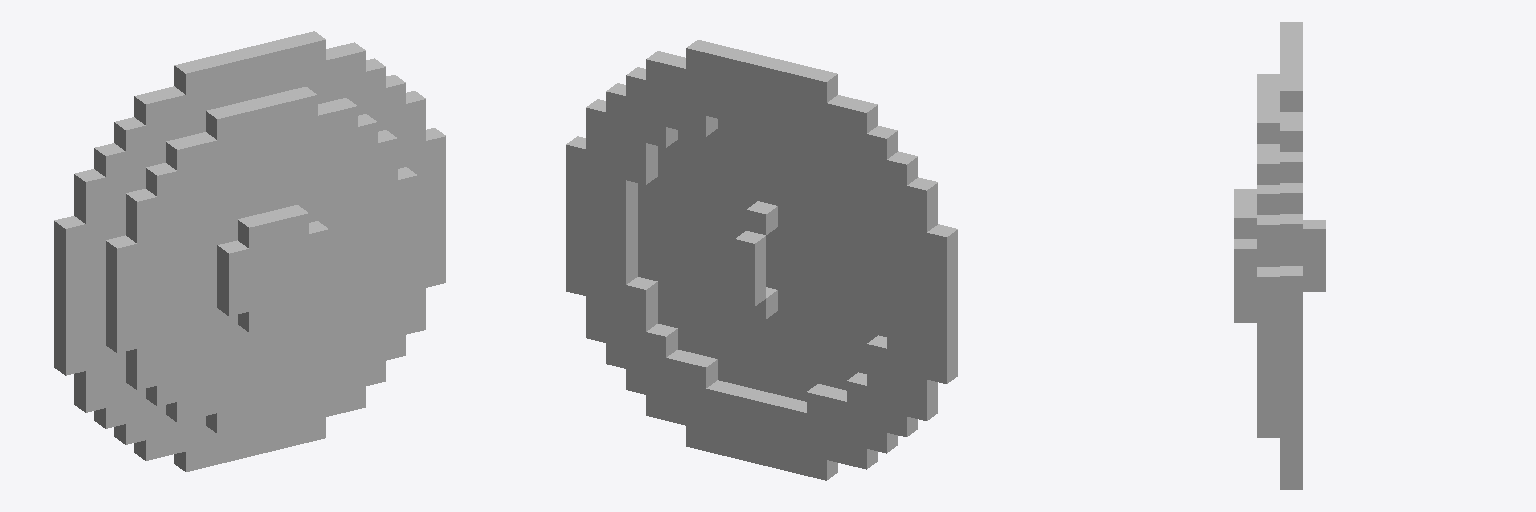
The model's file is Wooden Shield.obj.
3 views of the same model, side by side, from view 1: azimuth 30°, elevation 25°; view 2: azimuth 150°, elevation 25°; view 3: azimuth 270°, elevation 25° (orthographic).
Visible parts, largest first — view 1: Wooden Shield; view 2: Wooden Shield; view 3: Wooden Shield.
Part boxes in pixels (bbox=[...]): Wooden Shield: bbox=[54, 31, 445, 471]; Wooden Shield: bbox=[566, 40, 957, 480]; Wooden Shield: bbox=[1234, 22, 1325, 489].
Size of the model in its own units: 19 by 19 by 4.